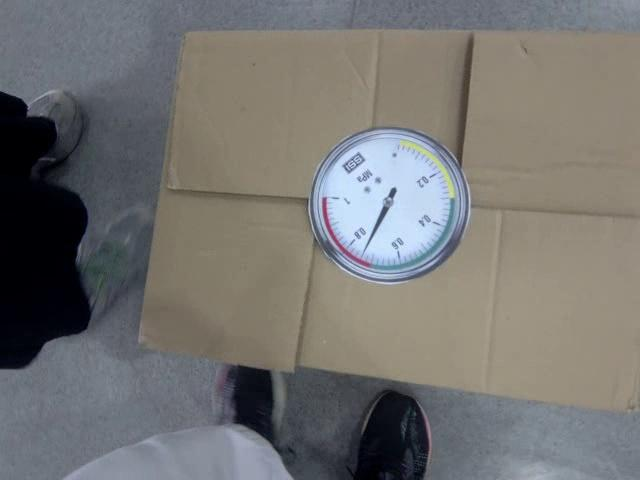Dashboard: (307, 126, 470, 283)
ssi: (341, 150, 365, 173)
